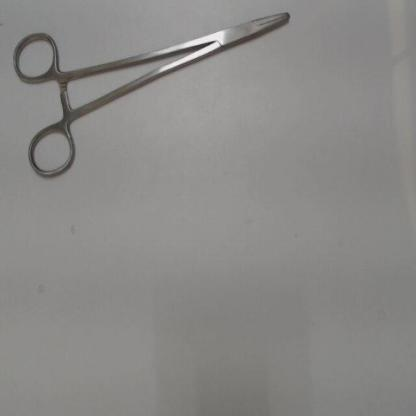8 Mayo Needle Holder: (7, 5, 310, 187)
